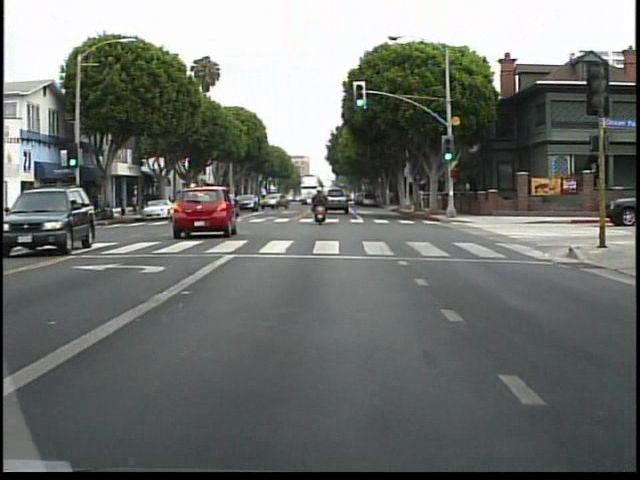person: (309, 181, 333, 227)
